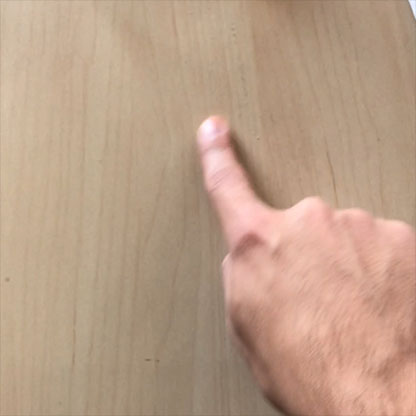fingertip: (197, 108, 231, 148)
